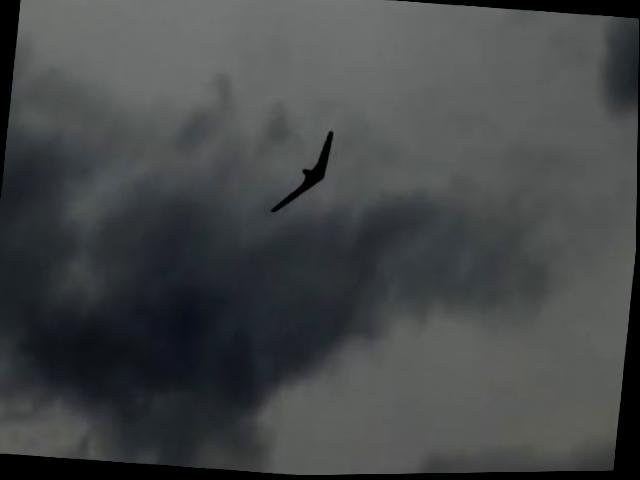flying wing: (269, 124, 338, 221)
